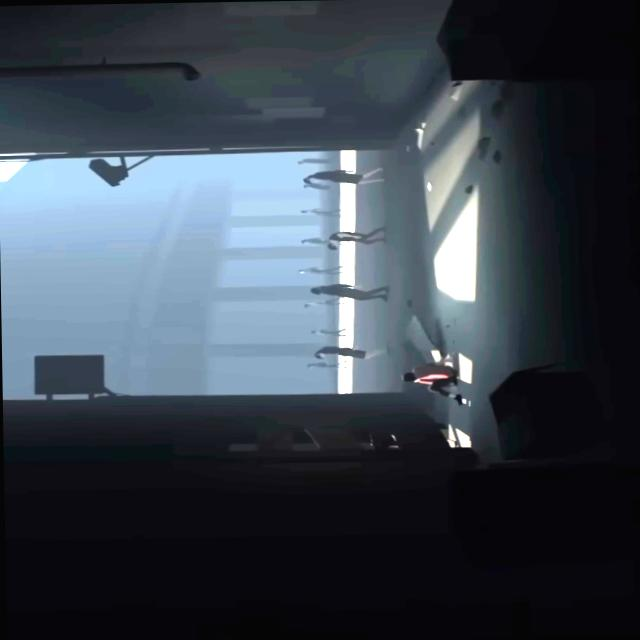boy: (400, 353, 460, 406)
zombie: (309, 282, 388, 302), (301, 167, 383, 184), (326, 227, 385, 250), (312, 346, 388, 358), (297, 266, 342, 275), (302, 298, 342, 308), (299, 208, 339, 217), (306, 360, 346, 369), (310, 328, 344, 337), (296, 157, 339, 164), (302, 183, 339, 190), (299, 237, 325, 245)
